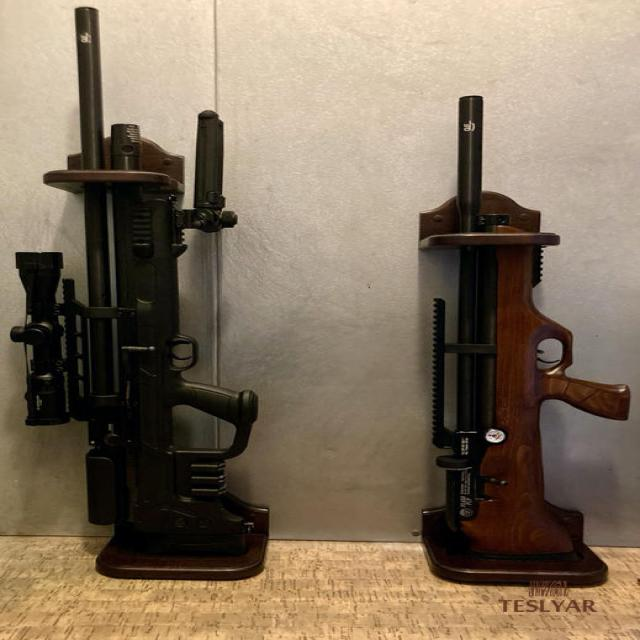Rifle: (10, 6, 270, 582), (419, 96, 633, 589)
